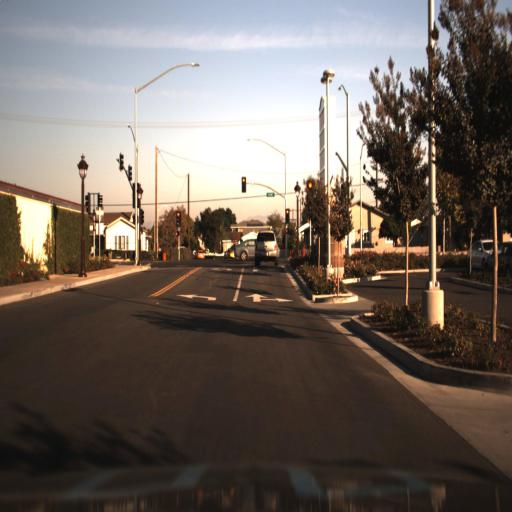car: (462, 235, 501, 275), (252, 227, 281, 264), (463, 239, 487, 278), (234, 236, 262, 262)
trafficLight-Red: (175, 207, 183, 231), (238, 176, 247, 195), (284, 206, 292, 225), (305, 177, 313, 195), (239, 174, 246, 189), (282, 205, 290, 218), (174, 209, 182, 221)
